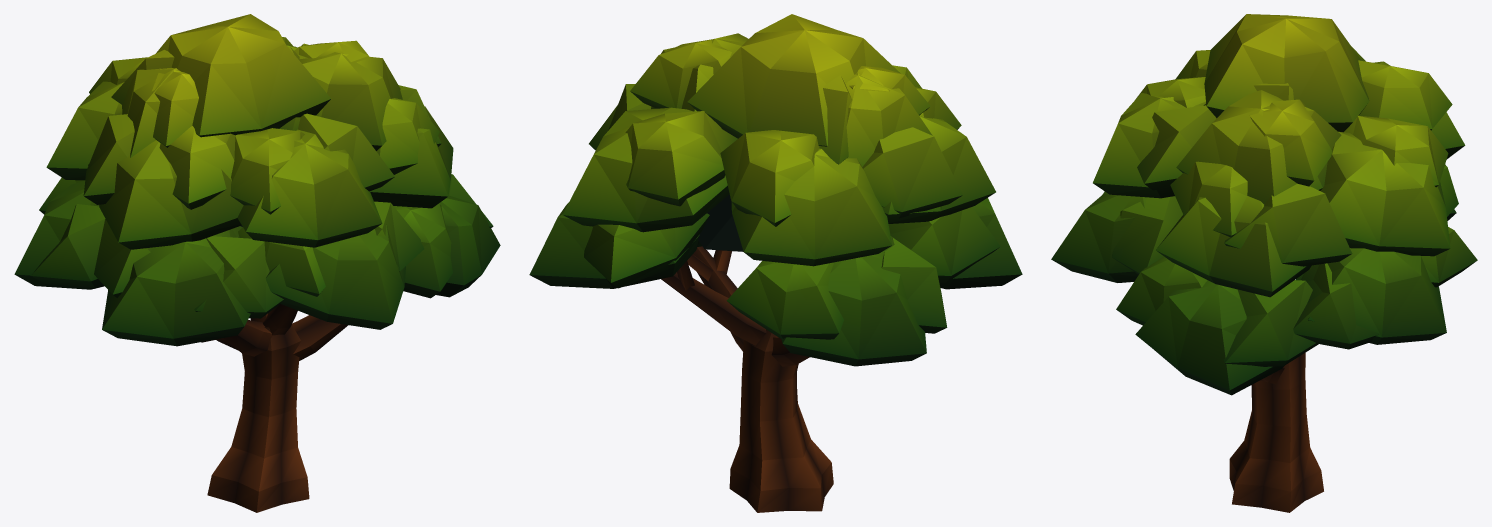
Rendered from oak_tree.glb.
3 views of the same model, side by side, from view 1: azimuth 30°, elevation 25°; view 2: azimuth 150°, elevation 25°; view 3: azimuth 270°, elevation 25° (orthographic). The views are drawn at different scales.
Parts seen in each view (by area): view 1: oak_tree; view 2: oak_tree; view 3: oak_tree.
Boxes of the visible parts, x1,y1,x2,y2 form: oak_tree: (14, 14, 500, 512); oak_tree: (529, 14, 1022, 512); oak_tree: (1051, 14, 1477, 512).
Bounding box in the file's own units: 6.27 × 6.74 × 5.67.
